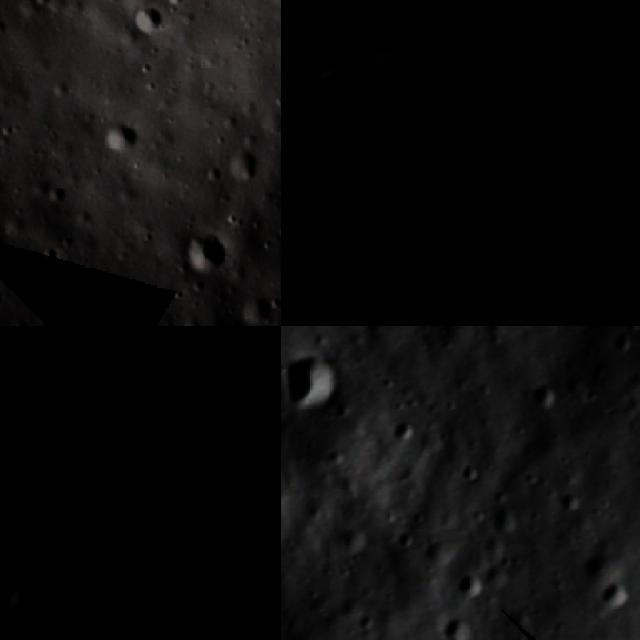crater: (304, 0, 448, 104), (0, 488, 68, 581), (281, 23, 352, 100), (281, 337, 350, 411), (578, 103, 640, 166), (590, 0, 640, 68), (281, 0, 341, 53), (312, 62, 368, 118), (590, 239, 640, 300), (463, 59, 518, 114), (512, 128, 566, 182), (281, 300, 391, 326), (522, 0, 636, 24), (599, 58, 640, 124), (281, 186, 331, 240), (417, 90, 468, 142), (419, 220, 468, 272), (180, 230, 238, 272), (228, 434, 275, 485), (94, 110, 140, 158), (491, 154, 539, 200), (521, 370, 570, 412), (324, 265, 368, 310), (521, 56, 566, 99), (388, 250, 432, 293), (602, 568, 640, 616), (381, 414, 424, 456), (204, 553, 245, 595), (203, 326, 261, 355), (573, 539, 612, 582), (450, 561, 489, 604), (94, 611, 151, 640), (544, 155, 584, 195), (226, 143, 263, 186), (281, 270, 307, 326), (239, 287, 275, 324), (133, 1, 167, 38), (438, 611, 475, 640), (605, 326, 640, 355), (612, 291, 640, 326), (509, 0, 546, 26), (625, 117, 640, 175), (281, 23, 293, 80), (164, 0, 192, 12)
